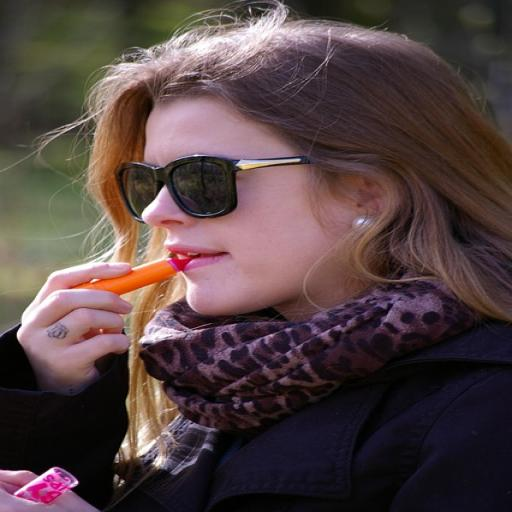lipstick: (76, 259, 189, 295)
